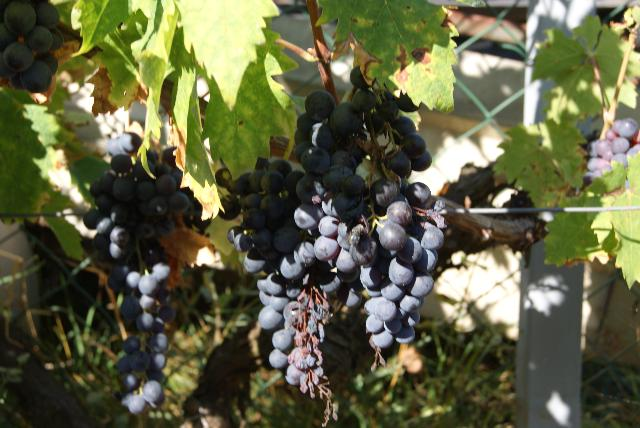grapes: (296, 70, 446, 350), (84, 132, 209, 415), (216, 159, 334, 421)
